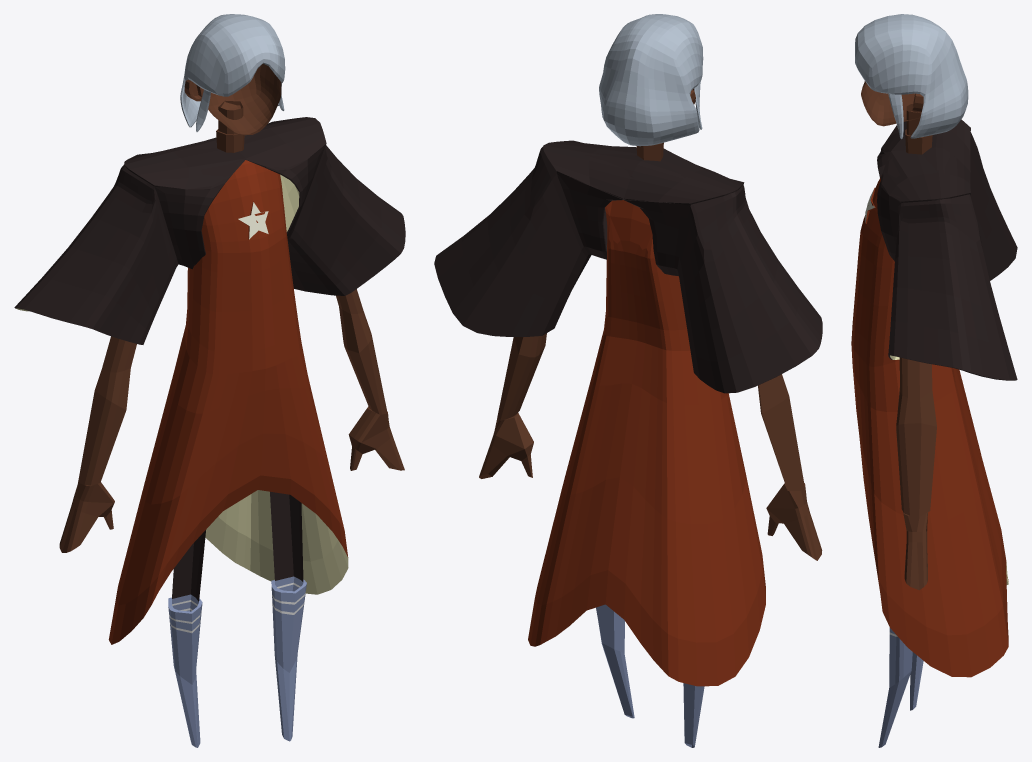
Rendered from yürüme - 1 ve 3.fbx.
3 renders of one model, left to right at view 1: azimuth 30°, elevation 25°; view 2: azimuth 150°, elevation 25°; view 3: azimuth 270°, elevation 25°, orthographic.
Visible parts, largest first — view 1: Circle, Cylinder.002, Cube.004, Cube.003, Cylinder.004, Cylinder, Cube.001, Cylinder.003; view 2: Circle, Cylinder.002, Cube.003, Cube.004, Cylinder.004, Cylinder; view 3: Circle, Cylinder.002, Cube.003, Cube.004, Cylinder.004, Cube.001, Cylinder.003, Cylinder.
Part boxes in pixels (x1=…): Circle: x1=108, y1=160, x2=348, y2=644; Cylinder.002: x1=14, y1=117, x2=405, y2=344; Cube.004: x1=59, y1=289, x2=404, y2=552; Cube.003: x1=180, y1=14, x2=285, y2=131; Cylinder.004: x1=270, y1=491, x2=306, y2=741; Cylinder: x1=168, y1=530, x2=205, y2=747; Cube.001: x1=201, y1=64, x2=281, y2=135; Cylinder.003: x1=216, y1=100, x2=244, y2=152; Circle: x1=528, y1=200, x2=765, y2=686; Cylinder.002: x1=434, y1=140, x2=822, y2=393; Cube.003: x1=599, y1=14, x2=703, y2=146; Cube.004: x1=479, y1=333, x2=822, y2=560; Cylinder.004: x1=596, y1=604, x2=634, y2=718; Cylinder: x1=683, y1=683, x2=704, y2=747; Circle: x1=851, y1=175, x2=1008, y2=677; Cylinder.002: x1=877, y1=119, x2=1017, y2=380; Cube.003: x1=855, y1=14, x2=968, y2=139; Cube.004: x1=896, y1=357, x2=936, y2=590; Cylinder.004: x1=878, y1=627, x2=912, y2=747; Cube.001: x1=861, y1=81, x2=921, y2=126; Cylinder.003: x1=905, y1=104, x2=932, y2=154; Cylinder: x1=910, y1=652, x2=923, y2=710.
Size of the model in its own units: 235 by 420 by 89.29.
